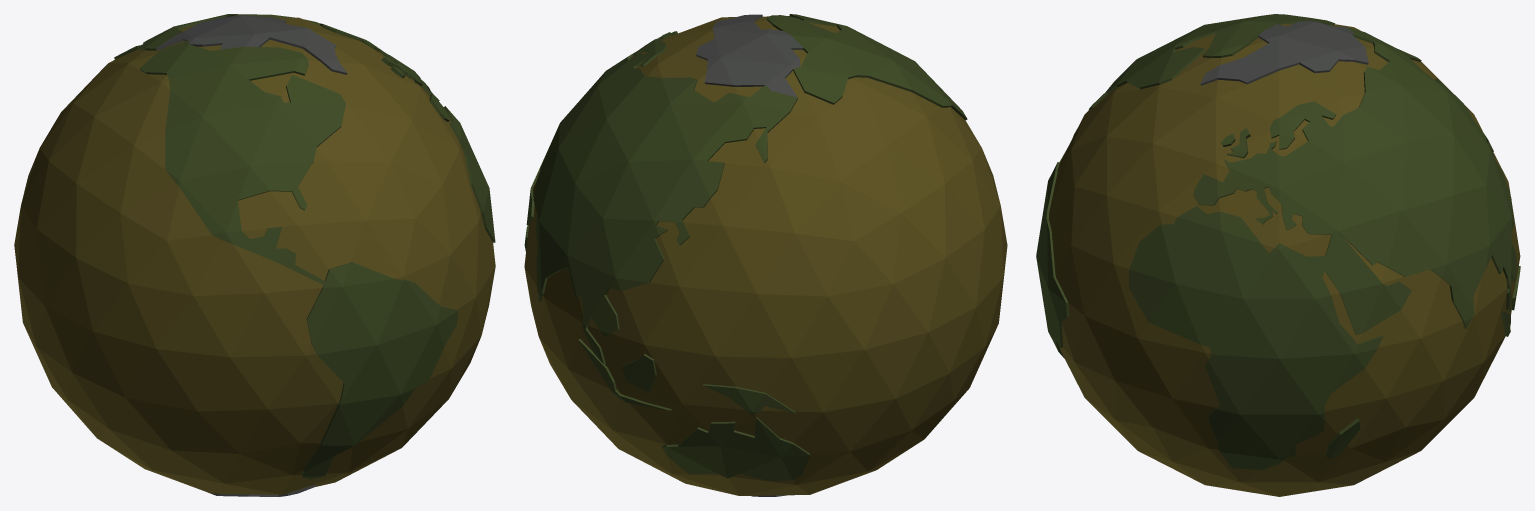
The model's file is DeathEarth.fbx.
The picture shows the model from 3 angles, left to right: view 1: azimuth 30°, elevation 25°; view 2: azimuth 150°, elevation 25°; view 3: azimuth 270°, elevation 25°; orthographic projection.
Parts seen in each view (by area): view 1: Icosphere.001; view 2: Icosphere.001; view 3: Icosphere.001.
Boxes of the visible parts, left/top/right/bottom form: Icosphere.001: left=14, top=14, right=495, bottom=496; Icosphere.001: left=524, top=14, right=1007, bottom=496; Icosphere.001: left=1036, top=14, right=1520, bottom=496.
Size of the model in its own units: 201 by 202 by 201.
